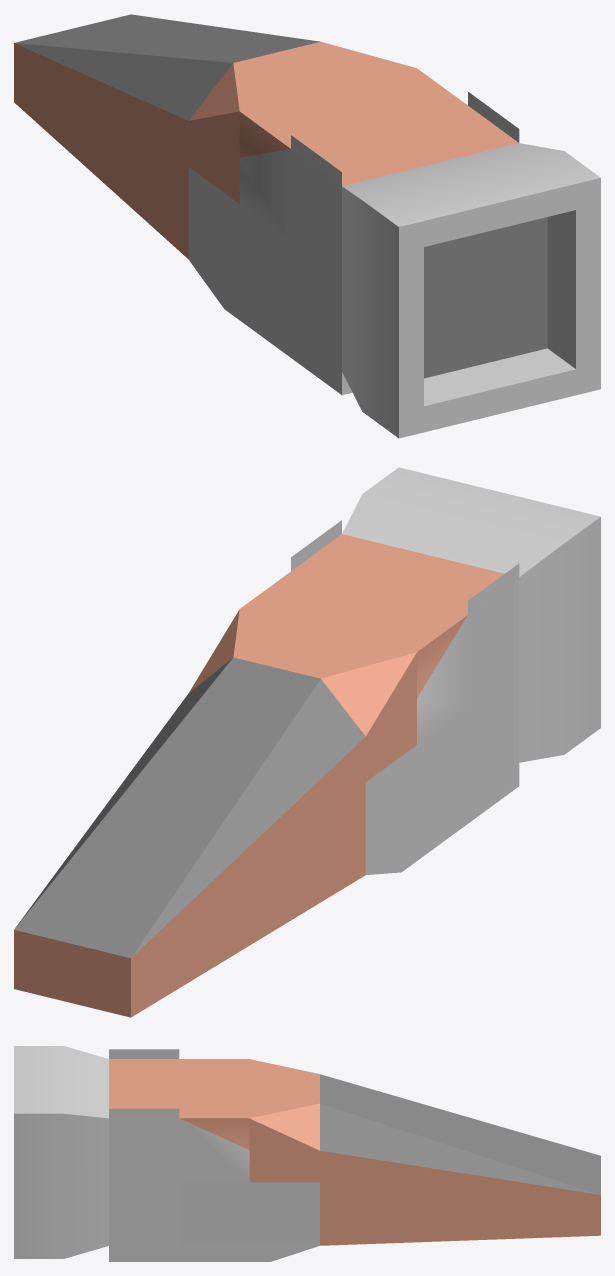
File: rammer.glb
3 views of the same model, one above another, from view 1: azimuth 30°, elevation 25°; view 2: azimuth 150°, elevation 25°; view 3: azimuth 270°, elevation 25° (orthographic). The views are drawn at different scales.
Visible parts, largest first — view 1: spaceCraft1; view 2: spaceCraft1; view 3: spaceCraft1.
Part boxes in pixels (left/top/right/bottom): spaceCraft1: left=14, top=14, right=600, bottom=438; spaceCraft1: left=14, top=467, right=600, bottom=1017; spaceCraft1: left=14, top=1046, right=600, bottom=1261.
Bounding box in the file's own units: 4.5 × 4.75 × 16.5.
